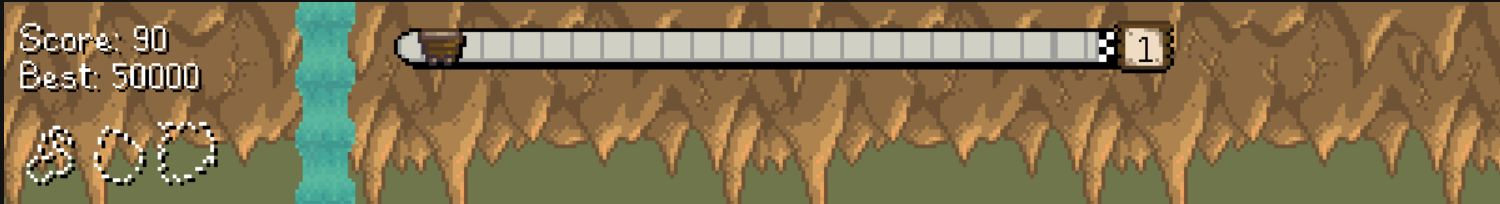score: (129, 22, 175, 58)
